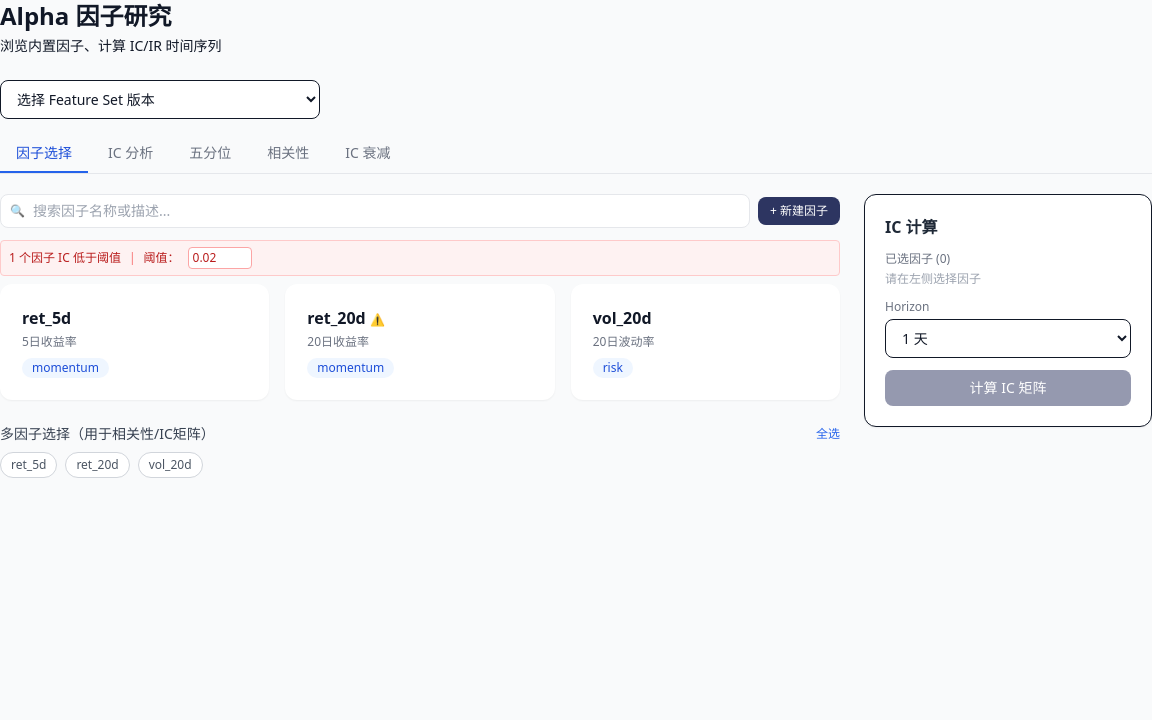
Test case: FactorsPage IC Alerts › closes modal on cancel
The image size is (1152, 720).
Click the button named "ret_20d IC 告警".
click(377, 320)  # box [370, 312, 385, 328]
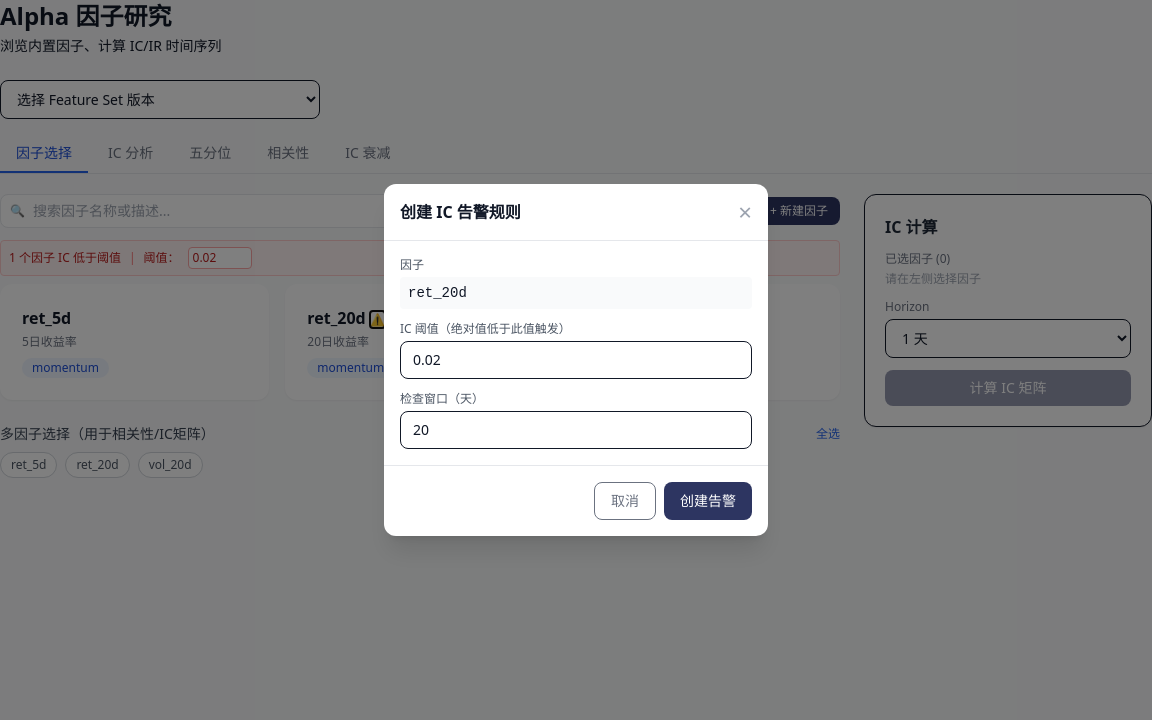
Result: the heading "创建 IC 告警规则" is shown at [400, 200, 521, 224]
Click the button "取消".
click(625, 501)  # box [594, 482, 656, 520]
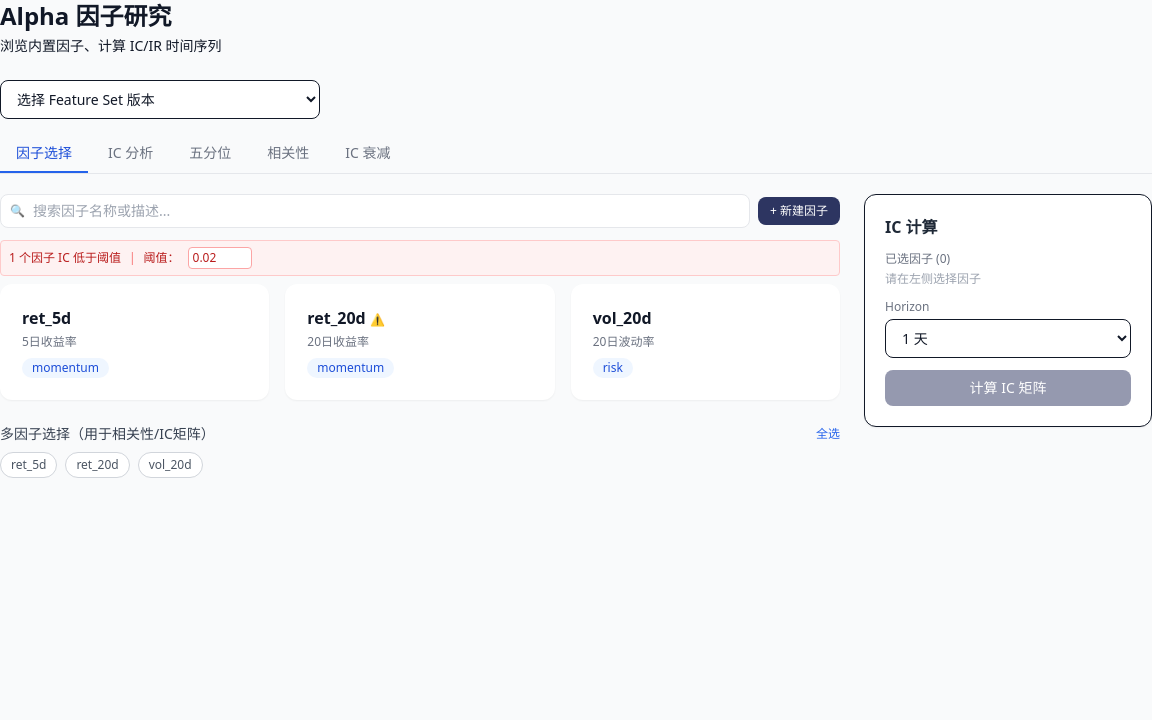
Result: the heading "创建 IC 告警规则" is gone
